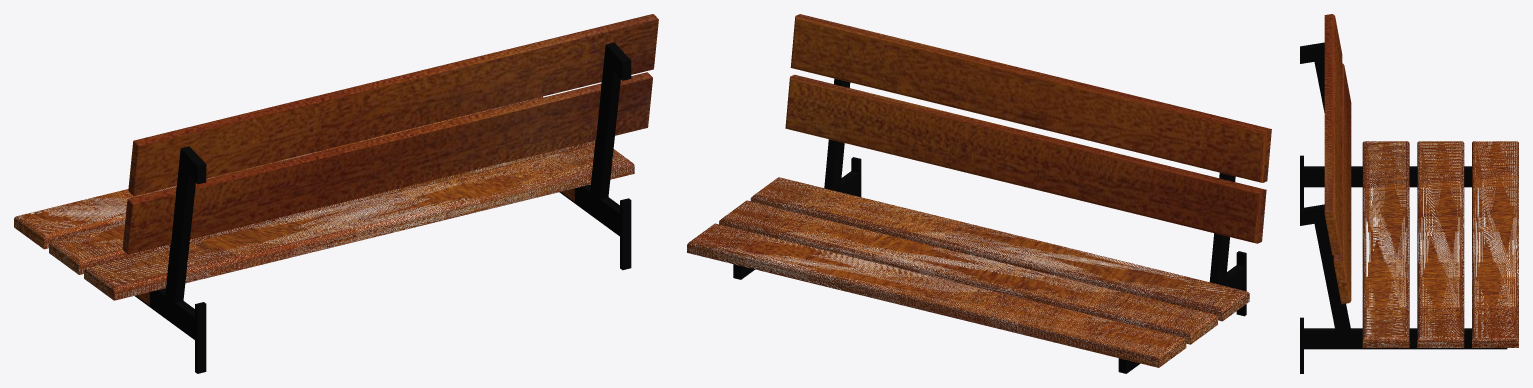
3 renders of one model, left to right at view 1: azimuth 30°, elevation 25°; view 2: azimuth 150°, elevation 25°; view 3: azimuth 270°, elevation 25°, orthographic. The views are drawn at different scales.
Visible parts, largest first — view 1: mesh5_mesh5-geometry, mesh6_mesh6-geometry, mesh8_mesh8-geometry, mesh9_mesh9-geometry, mesh11_mesh11-geometry, mesh7_mesh7-geometry, mesh1_mesh1-geometry, mesh3_mesh3-geometry; view 2: mesh5_mesh5-geometry, mesh6_mesh6-geometry, mesh9_mesh9-geometry, mesh8_mesh8-geometry, mesh7_mesh7-geometry, mesh11_mesh11-geometry, mesh3_mesh3-geometry, mesh1_mesh1-geometry; view 3: mesh8_mesh8-geometry, mesh7_mesh7-geometry, mesh9_mesh9-geometry, mesh5_mesh5-geometry, mesh11_mesh11-geometry, mesh6_mesh6-geometry, mesh1_mesh1-geometry, mesh3_mesh3-geometry.
Part boxes in pixels (x1,y1,x2,y2): mesh5_mesh5-geometry: [128, 14, 658, 196]; mesh6_mesh6-geometry: [122, 72, 652, 254]; mesh8_mesh8-geometry: [84, 144, 634, 300]; mesh9_mesh9-geometry: [14, 96, 543, 249]; mesh11_mesh11-geometry: [135, 184, 631, 373]; mesh7_mesh7-geometry: [49, 141, 595, 274]; mesh1_mesh1-geometry: [590, 42, 631, 198]; mesh3_mesh3-geometry: [165, 146, 206, 302]; mesh5_mesh5-geometry: [790, 14, 1271, 182]; mesh6_mesh6-geometry: [785, 74, 1266, 243]; mesh9_mesh9-geometry: [687, 223, 1186, 367]; mesh8_mesh8-geometry: [750, 177, 1249, 321]; mesh7_mesh7-geometry: [719, 200, 1217, 344]; mesh11_mesh11-geometry: [733, 157, 1246, 373]; mesh3_mesh3-geometry: [1209, 172, 1235, 284]; mesh1_mesh1-geometry: [824, 78, 850, 190]; mesh8_mesh8-geometry: [1362, 141, 1409, 347]; mesh7_mesh7-geometry: [1417, 141, 1464, 347]; mesh9_mesh9-geometry: [1472, 141, 1518, 347]; mesh5_mesh5-geometry: [1324, 14, 1342, 255]; mesh11_mesh11-geometry: [1300, 155, 1507, 373]; mesh6_mesh6-geometry: [1333, 63, 1351, 304]; mesh1_mesh1-geometry: [1300, 204, 1350, 331]; mesh3_mesh3-geometry: [1300, 42, 1324, 112].
Size of the model in its own units: 0.8472 by 0.355 by 0.3953.
